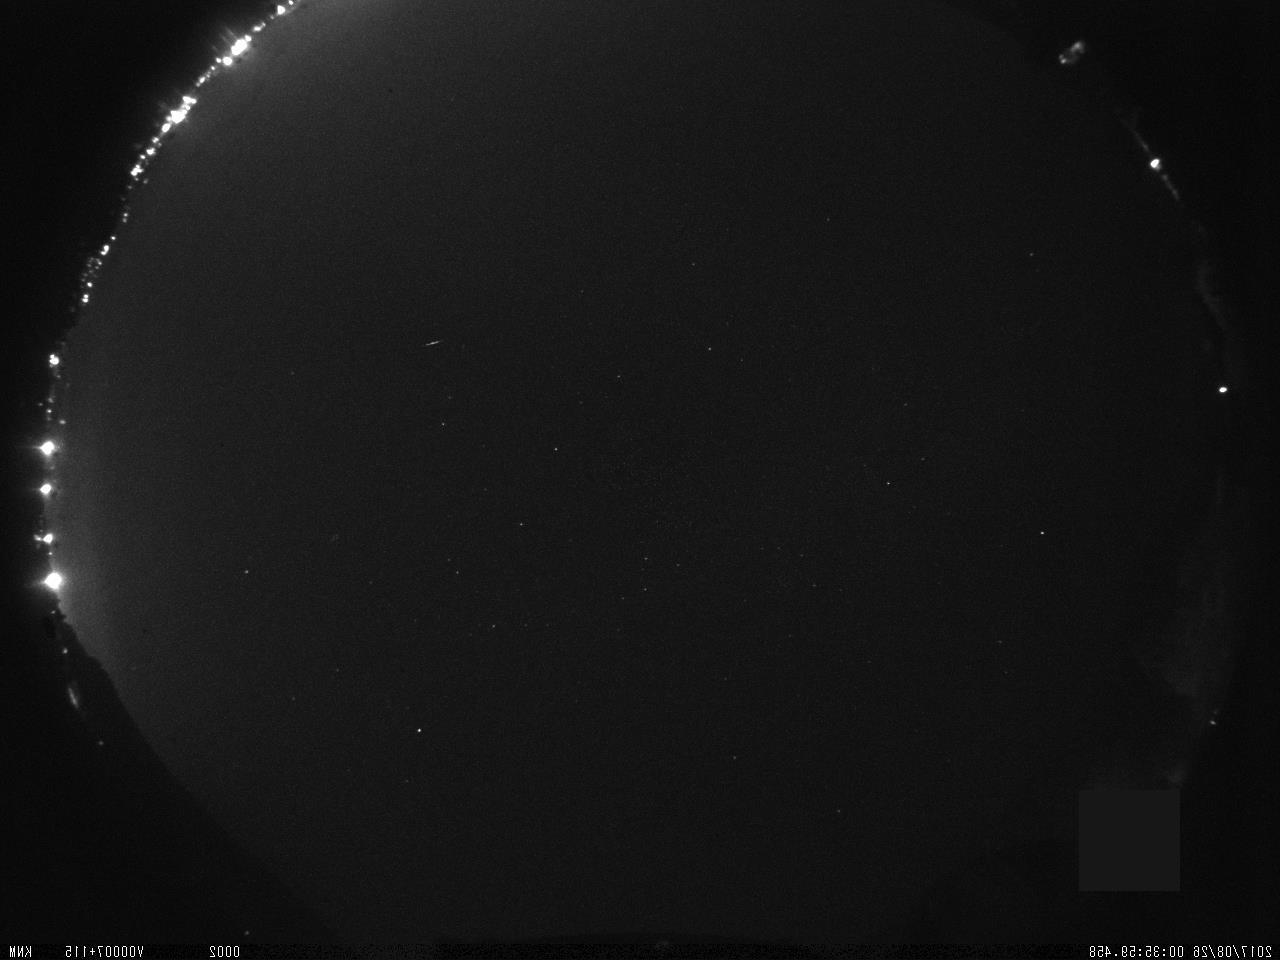meteor: (405, 320, 463, 363)
